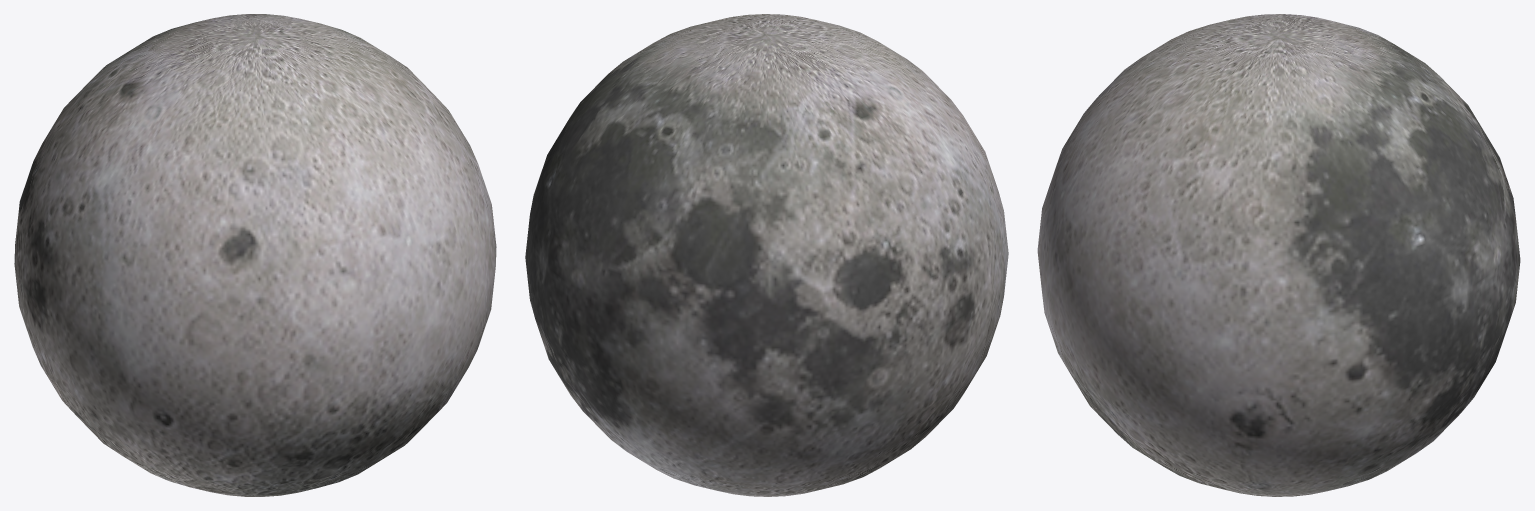
The model's file is moon.fbx.
3 renders of one model, left to right at view 1: azimuth 30°, elevation 25°; view 2: azimuth 150°, elevation 25°; view 3: azimuth 270°, elevation 25°, orthographic.
Parts seen in each view (by area): view 1: moon; view 2: moon; view 3: moon.
Boxes of the visible parts, left/top/right/bottom form: moon: left=14, top=14, right=496, bottom=496; moon: left=525, top=14, right=1008, bottom=496; moon: left=1037, top=14, right=1520, bottom=496.
Size of the model in its own units: 200 by 200 by 200.
Materials: 1 (1 with a texture image).
